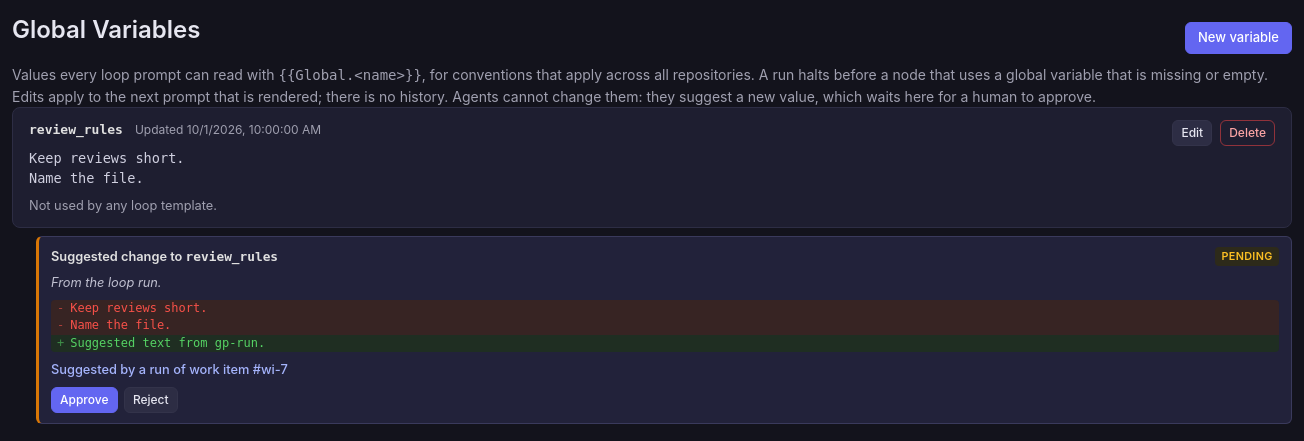
Test: suggestions on the Global Variables page › approving a suggestion on the page re-reads the variables and the suggestions
Click the button "Approve" at (84, 400), box top-left (51, 387), bottom-right (118, 413)
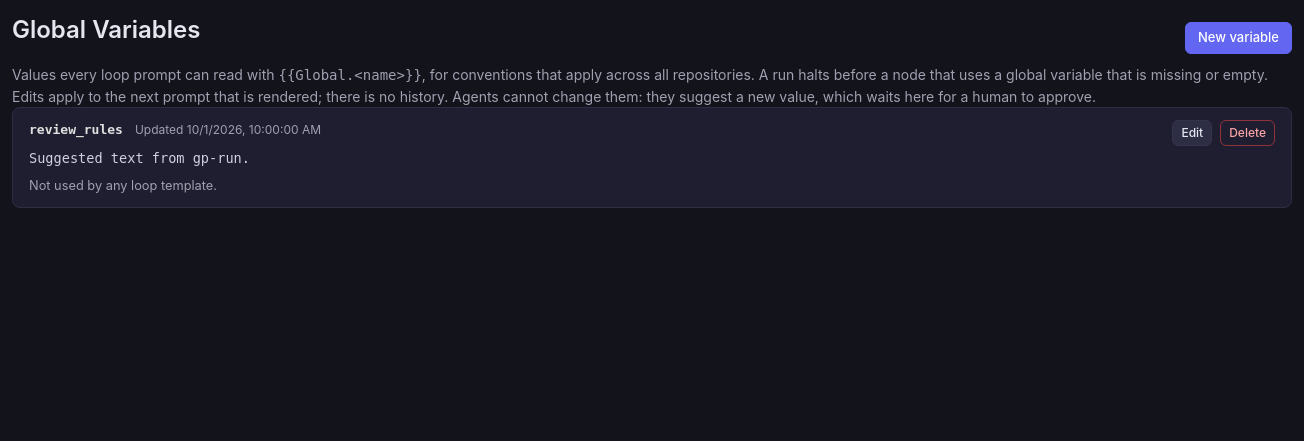
Expected: the text "Suggested text from gp-run." is shown, top-left (29, 150), bottom-right (250, 166)
Expected: the text "From the loop run." is gone
